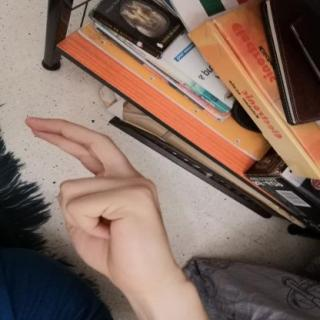ZAY: (17, 111, 179, 287)
